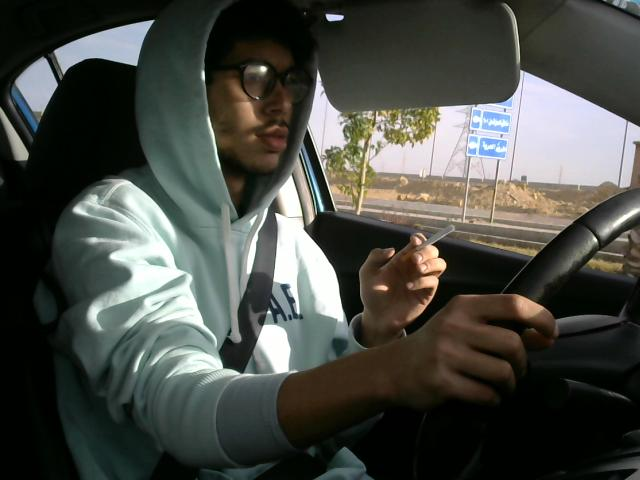Smoking: (396, 218, 460, 267)
